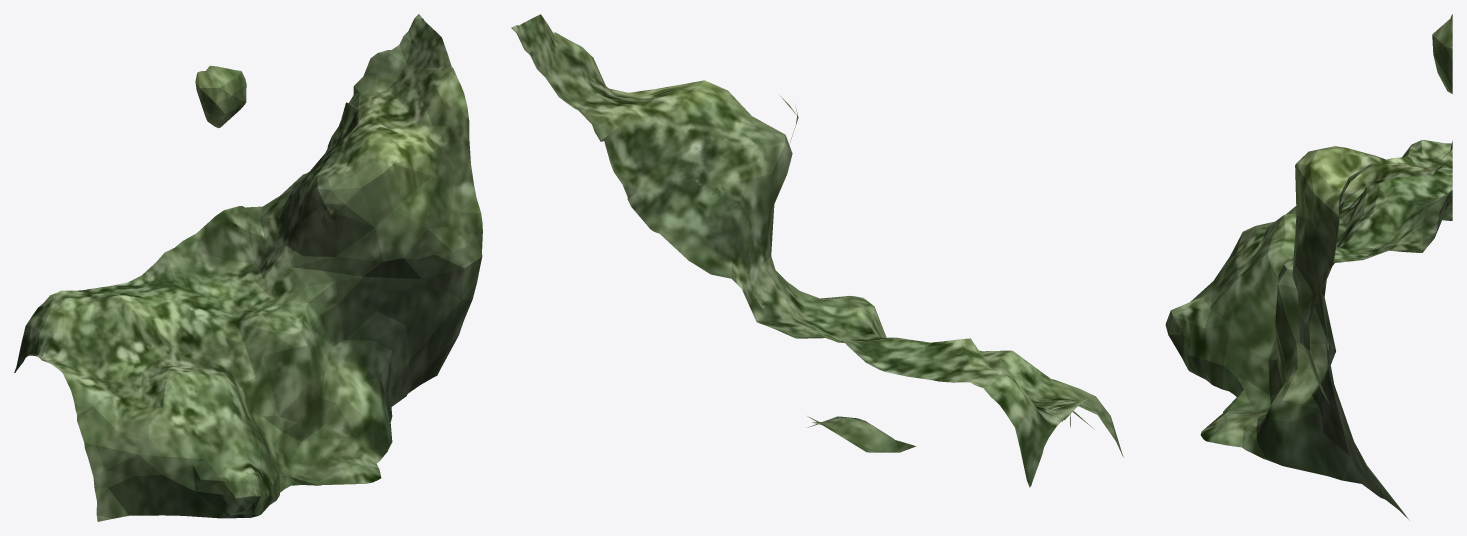
3 renders of one model, left to right at view 1: azimuth 30°, elevation 25°; view 2: azimuth 150°, elevation 25°; view 3: azimuth 270°, elevation 25°, orthographic. The views are drawn at different scales.
Bounding box in the file's own units: 2.95 × 2.42 × 1.61.
Materials: 3 (3 with a texture image).
